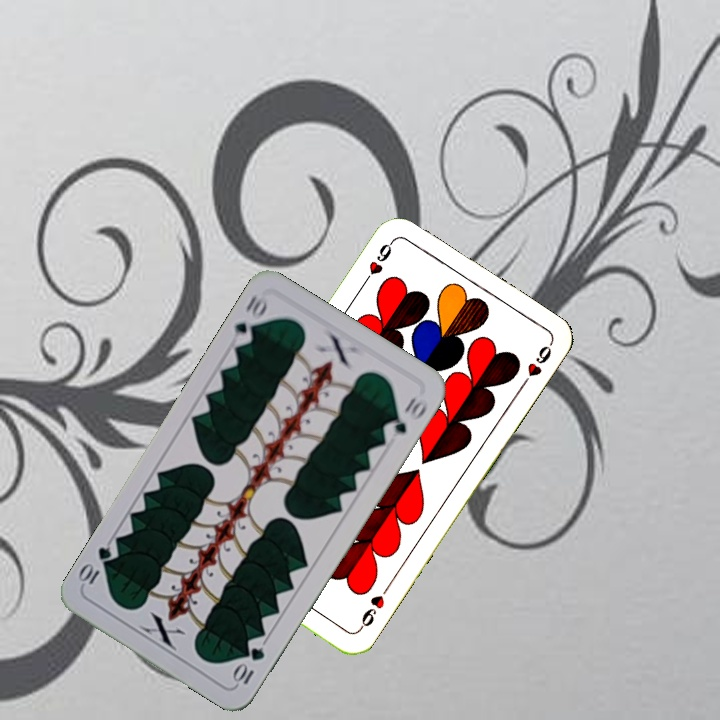G10: (228, 291, 271, 349), (229, 643, 268, 687)
H9: (358, 235, 397, 288), (354, 581, 392, 634)
